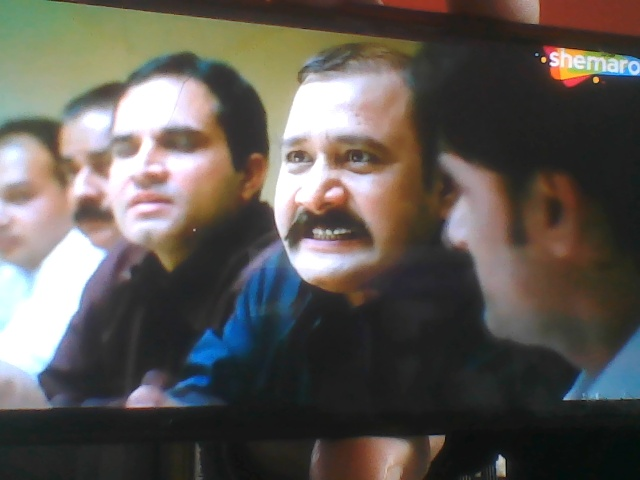fake: (253, 5, 464, 304), (92, 44, 243, 258)
